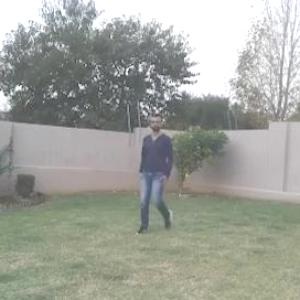follow: (137, 110, 172, 230)
